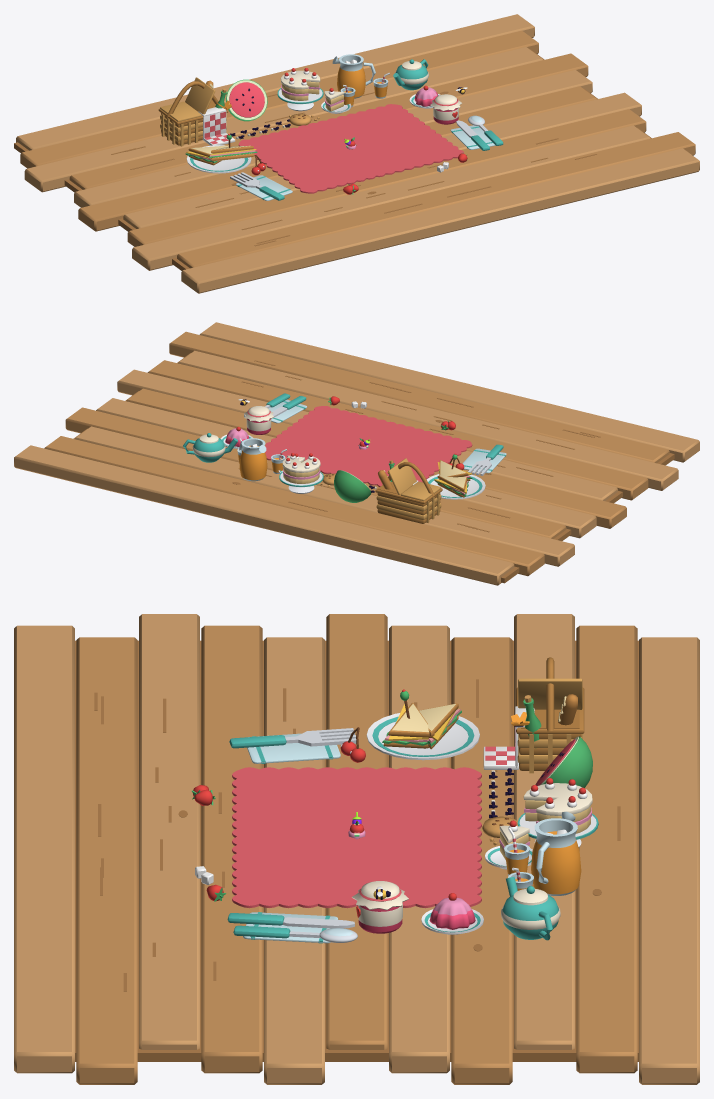
The model's file is grow.glb.
3 views of the same model, one above another, from view 1: azimuth 30°, elevation 25°; view 2: azimuth 150°, elevation 25°; view 3: azimuth 270°, elevation 25° (orthographic). The views are drawn at different scales.
Parts seen in each view (by area): view 1: planks, hem, basket, melon_half, jug, cake, grain, basket_cloth, teapot, jam, dinner_plate, sandwich_b (+5 smaller); view 2: planks, hem, basket, jug, grain, cake, teapot, melon_half, jam, dinner_plate, gaps, napkin_left (+1 smaller); view 3: planks, hem, gaps, basket, jug, teapot, cake, dinner_plate, jam, grain, melon_half, napkin_left (+9 smaller).
Boxes of the visible parts, x1,y1,x2,y2 form: planks: (16,14,699,293); hem: (238,104,463,193); basket: (158,77,228,146); melon_half: (226,79,267,121); jug: (332,54,375,98); cake: (280,68,320,100); grain: (111,91,596,246); basket_cloth: (198,107,235,145); teapot: (393,59,428,90); jam: (430,94,462,124); dinner_plate: (186,145,251,173); sandwich_b: (209,145,257,161); planks: (14,322,699,585); hem: (265,406,472,486); basket: (375,458,442,523); jug: (239,438,267,481); grain: (232,360,600,532); cake: (282,453,320,483); teapot: (183,433,237,462); melon_half: (334,470,371,502); jam: (244,406,273,434); dinner_plate: (426,474,485,499); gaps: (73,353,674,583); napkin_left: (462,448,506,473); planks: (14,614,699,1084); hem: (232,767,481,908); gaps: (75,640,638,1061); basket: (516,657,584,773); jug: (531,811,581,895); teapot: (501,876,560,940); cake: (523,778,592,833); dinner_plate: (366,713,479,760); jam: (352,881,408,933); grain: (94,679,620,991); melon_half: (535,736,592,787); napkin_left: (247,733,340,763).
Size of the model in its own units: 54.8 by 6.4 by 35.13.
